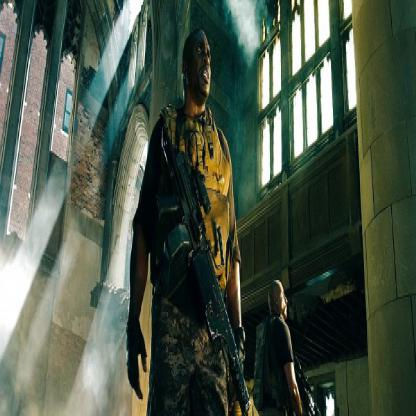Guns: (153, 121, 251, 414), (292, 349, 322, 414)
